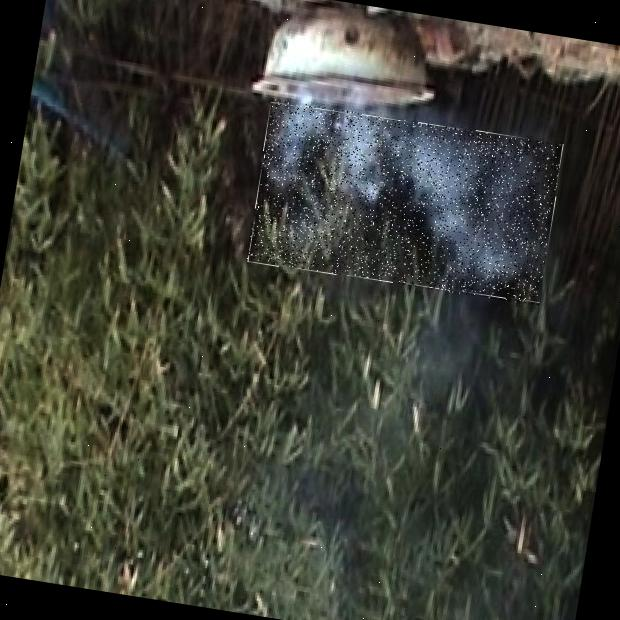smoke: (246, 98, 563, 305)
